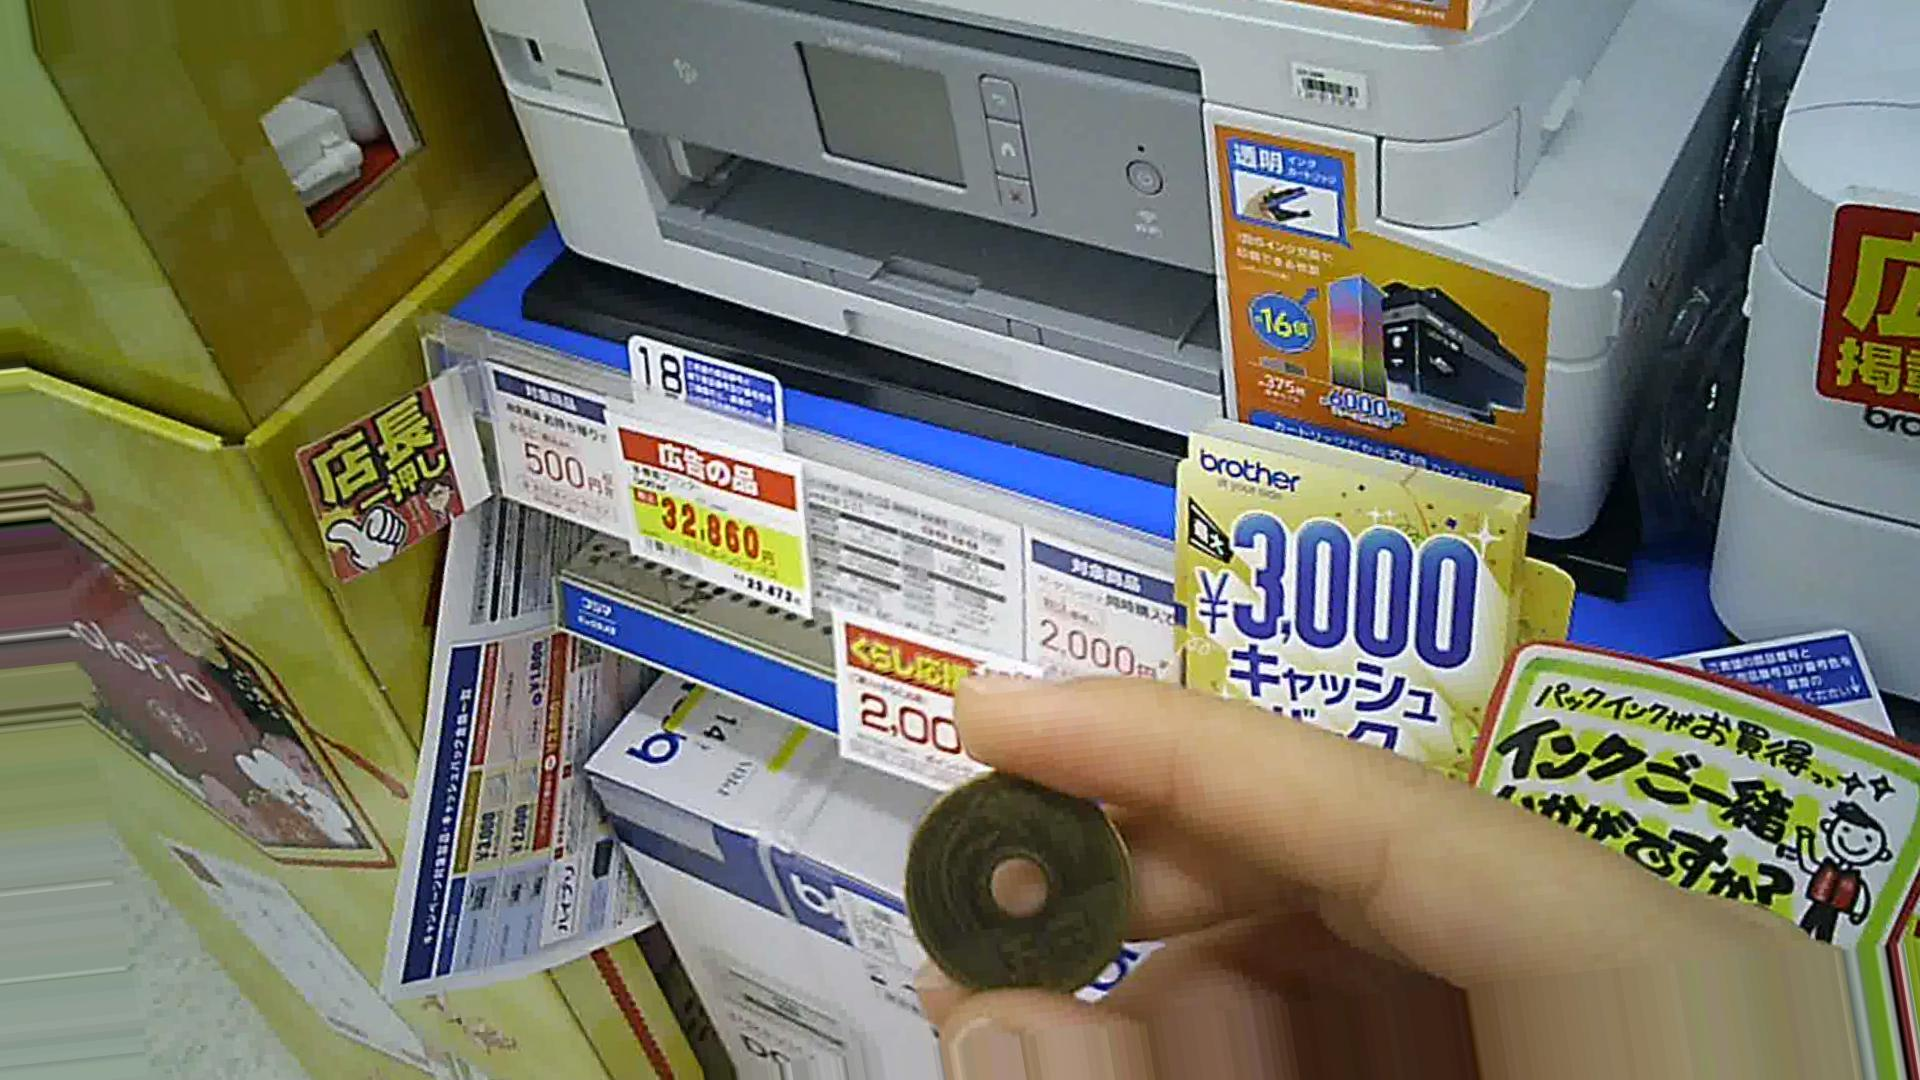5 Yen: (918, 746, 1150, 1025)
